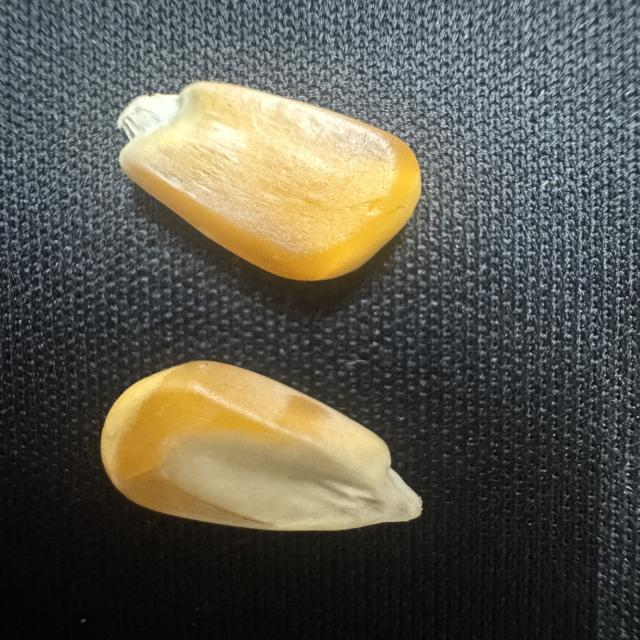Good-Seed: (115, 68, 426, 284), (89, 356, 433, 542)
